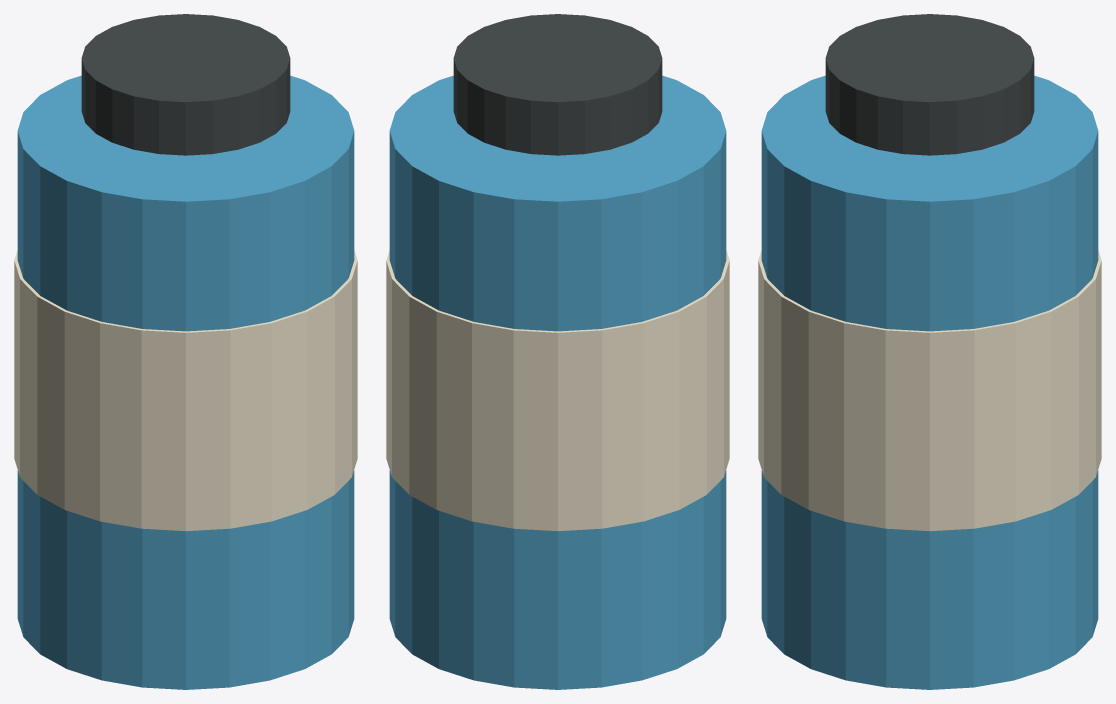
File: water.glb
3 renders of one model, left to right at view 1: azimuth 30°, elevation 25°; view 2: azimuth 150°, elevation 25°; view 3: azimuth 270°, elevation 25°, orthographic.
Parts seen in each view (by area): view 1: drink_body, drink_label, drink_cap; view 2: drink_body, drink_label, drink_cap; view 3: drink_body, drink_label, drink_cap.
Part boxes in pixels (x1,y1,x2,y2): drink_body: (17,75,354,689); drink_label: (14,250,357,531); drink_cap: (81,14,290,155); drink_body: (389,75,726,689); drink_label: (386,250,729,531); drink_cap: (453,14,662,155); drink_body: (761,75,1098,689); drink_label: (758,250,1101,531); drink_cap: (825,14,1034,155).
Size of the model in its own units: 0.204 by 0.3675 by 0.204.
